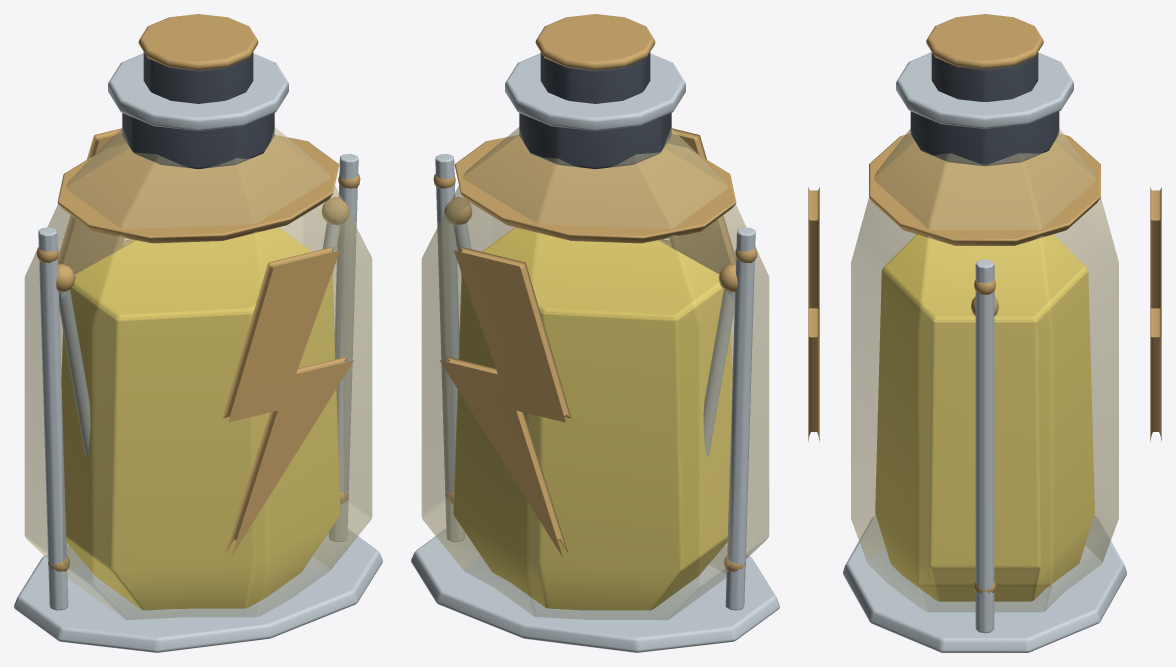
Rendered from SM_Flask_Lightning.fbx.
3 views of the same model, side by side, from view 1: azimuth 30°, elevation 25°; view 2: azimuth 150°, elevation 25°; view 3: azimuth 270°, elevation 25° (orthographic).
Visible parts, largest first — view 1: glass_CutVessel, liquid_ContainedEssence, gold_ShoulderRim, metal_BaseRing, gold_Lightning_Front, liquid_Meniscus, metal_CradleRail, metal_MouthLip, dark_NeckSleeve, metal_CradleRail.001, gold_CapInset, dark_SealedStopper (+3 smaller); view 2: glass_CutVessel, liquid_ContainedEssence, gold_ShoulderRim, metal_BaseRing, gold_Lightning_Back, liquid_Meniscus, metal_CradleRail, metal_MouthLip, dark_NeckSleeve, metal_CradleRail.001, gold_CapInset, dark_SealedStopper (+3 smaller); view 3: glass_CutVessel, liquid_ContainedEssence, gold_ShoulderRim, metal_BaseRing, liquid_Meniscus, metal_CradleRail.001, metal_MouthLip, dark_NeckSleeve, gold_CapInset, dark_SealedStopper, gold_Lightning_Back, gold_Lightning_Front.
Part boxes in pixels (<box>): glass_CutVessel: <box>24,127,372,619</box>; liquid_ContainedEssence: <box>61,273,340,610</box>; gold_ShoulderRim: <box>57,135,339,243</box>; metal_BaseRing: <box>14,529,382,652</box>; gold_Lightning_Front: <box>222,246,353,557</box>; liquid_Meniscus: <box>73,227,311,318</box>; metal_CradleRail: <box>38,227,68,610</box>; metal_MouthLip: <box>108,53,288,130</box>; dark_NeckSleeve: <box>122,113,274,169</box>; metal_CradleRail.001: <box>329,154,358,541</box>; gold_CapInset: <box>138,14,258,70</box>; dark_SealedStopper: <box>143,52,253,103</box>; glass_CutVessel: <box>421,127,769,619</box>; liquid_ContainedEssence: <box>453,273,732,610</box>; gold_ShoulderRim: <box>454,135,736,243</box>; metal_BaseRing: <box>411,529,779,652</box>; gold_Lightning_Back: <box>440,246,571,557</box>; liquid_Meniscus: <box>482,227,720,318</box>; metal_CradleRail: <box>725,227,755,610</box>; metal_MouthLip: <box>505,53,685,130</box>; dark_NeckSleeve: <box>519,113,671,169</box>; metal_CradleRail.001: <box>435,154,464,541</box>; gold_CapInset: <box>535,14,655,70</box>; dark_SealedStopper: <box>540,52,650,103</box>; glass_CutVessel: <box>851,129,1118,611</box>; liquid_ContainedEssence: <box>875,269,1094,601</box>; gold_ShoulderRim: <box>869,133,1100,245</box>; metal_BaseRing: <box>843,516,1126,652</box>; liquid_Meniscus: <box>883,234,1086,320</box>; metal_CradleRail.001: <box>975,259,994,633</box>; metal_MouthLip: <box>896,52,1073,128</box>; dark_NeckSleeve: <box>910,111,1059,166</box>; gold_CapInset: <box>926,14,1043,69</box>; dark_SealedStopper: <box>931,52,1038,101</box>; gold_Lightning_Back: <box>1150,187,1161,441</box>; gold_Lightning_Front: <box>808,187,819,441</box>.
Bounding box in the file's own units: 30.06 × 49.5 × 28.8.
